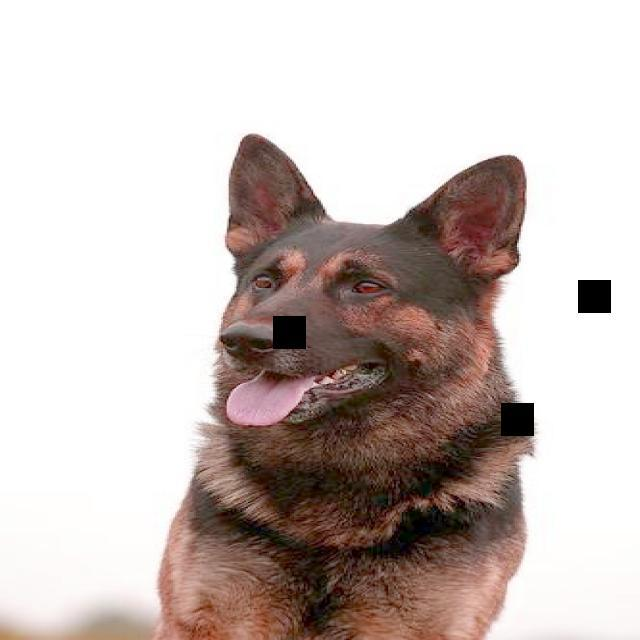adult_dog: (147, 123, 540, 640)
